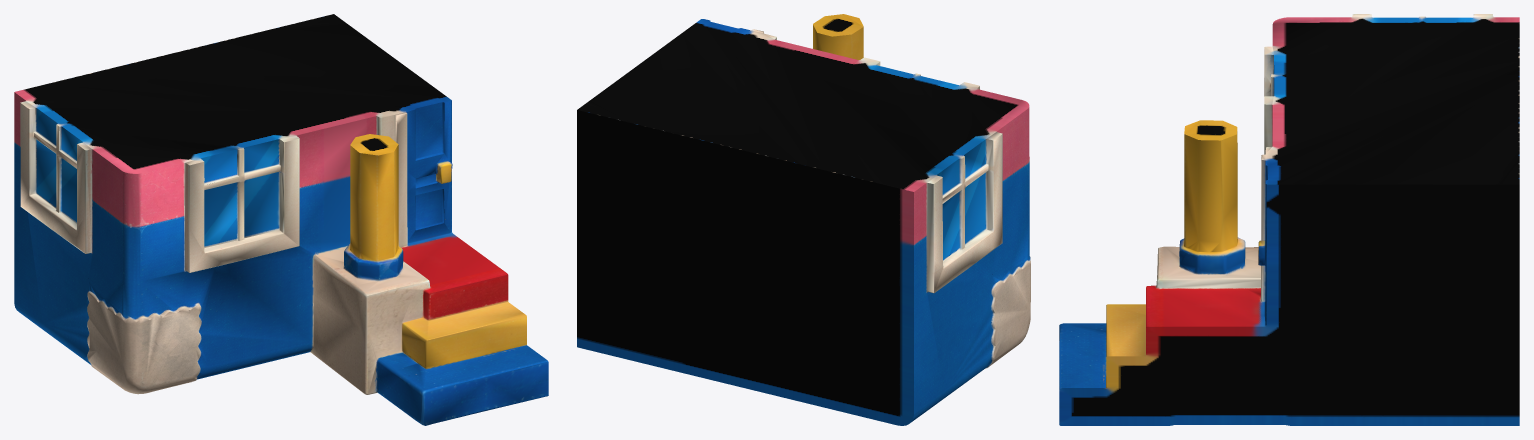
The model's file is 1-ground-floor-front-left.fbx.
3 renders of one model, left to right at view 1: azimuth 30°, elevation 25°; view 2: azimuth 150°, elevation 25°; view 3: azimuth 270°, elevation 25°, orthographic. The views are drawn at different scales.
Visible parts, largest first — view 1: ground-floor-front-left; view 2: ground-floor-front-left; view 3: ground-floor-front-left.
Part boxes in pixels (x1,y1,x2,y2): ground-floor-front-left: (14, 14, 548, 425); ground-floor-front-left: (577, 14, 1030, 425); ground-floor-front-left: (1059, 14, 1519, 425).
Bounding box in the file's own units: 4819 × 3199 × 5494.
1 material, 1 textured.
